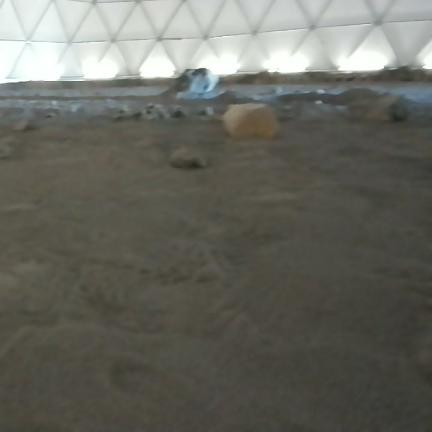Rock: (222, 103, 279, 138), (367, 95, 409, 122), (176, 68, 218, 94), (171, 149, 208, 169), (143, 104, 171, 119), (0, 140, 13, 159), (14, 120, 35, 131), (171, 107, 185, 118), (199, 107, 214, 116), (111, 113, 125, 121), (317, 89, 325, 94), (315, 100, 323, 104)
